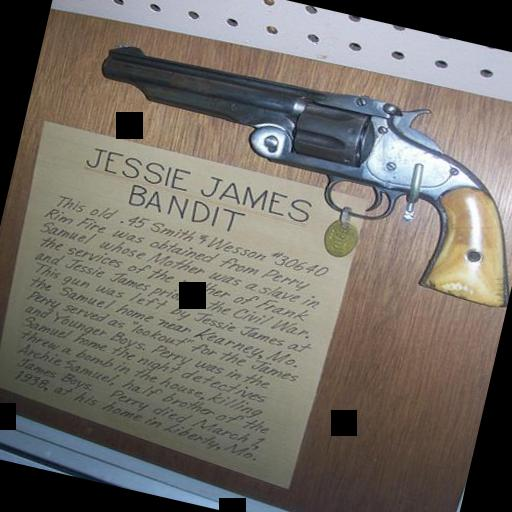Handgun: (66, 35, 512, 312)
